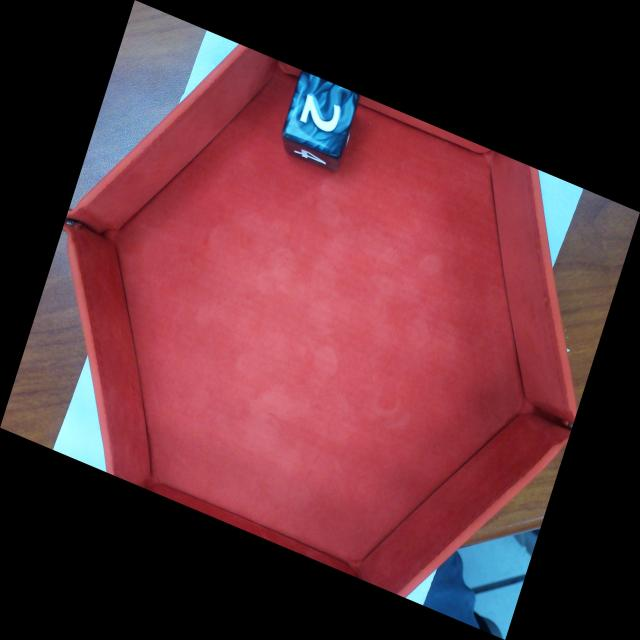dice: (280, 70, 361, 160)
